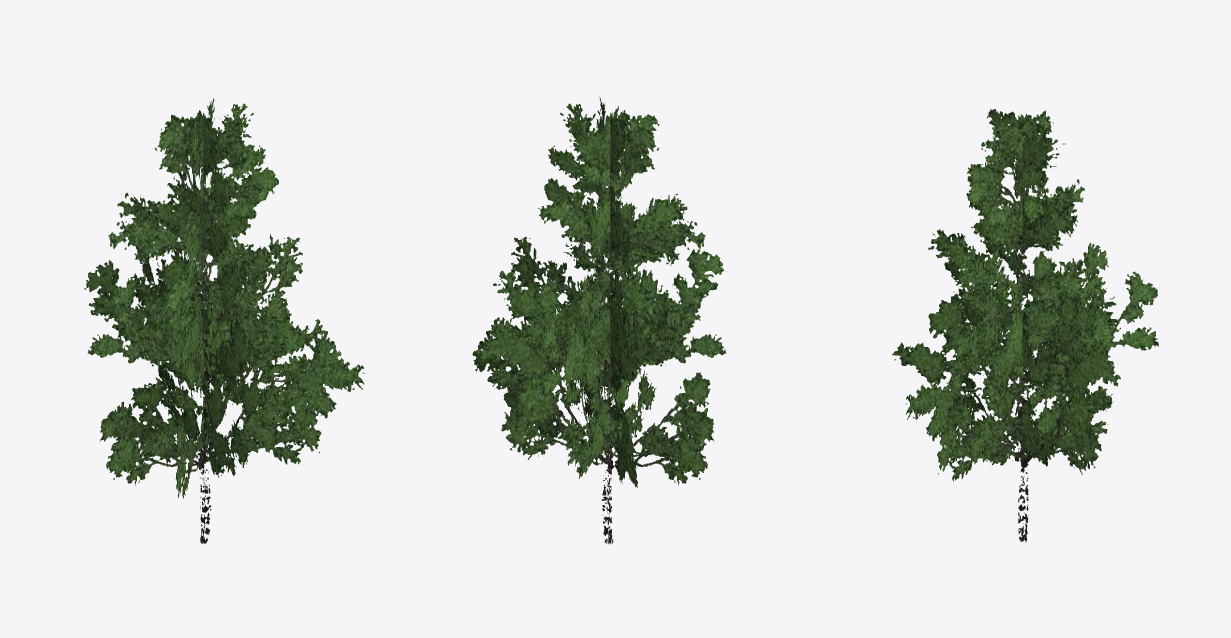
The model's file is bush_pine_a_bb.glb.
3 renders of one model, left to right at view 1: azimuth 30°, elevation 25°; view 2: azimuth 150°, elevation 25°; view 3: azimuth 270°, elevation 25°, orthographic.
Visible parts, largest first — view 1: bush_pine_a_billboard; view 2: bush_pine_a_billboard; view 3: bush_pine_a_billboard.
Part boxes in pixels (bbox=[...]): bush_pine_a_billboard: bbox=[84, 98, 365, 543]; bush_pine_a_billboard: bbox=[472, 97, 726, 544]; bush_pine_a_billboard: bbox=[892, 109, 1158, 542].
Size of the model in its own units: 1.05 by 1.33 by 1.05.
Materials: 1 (1 with a texture image).
